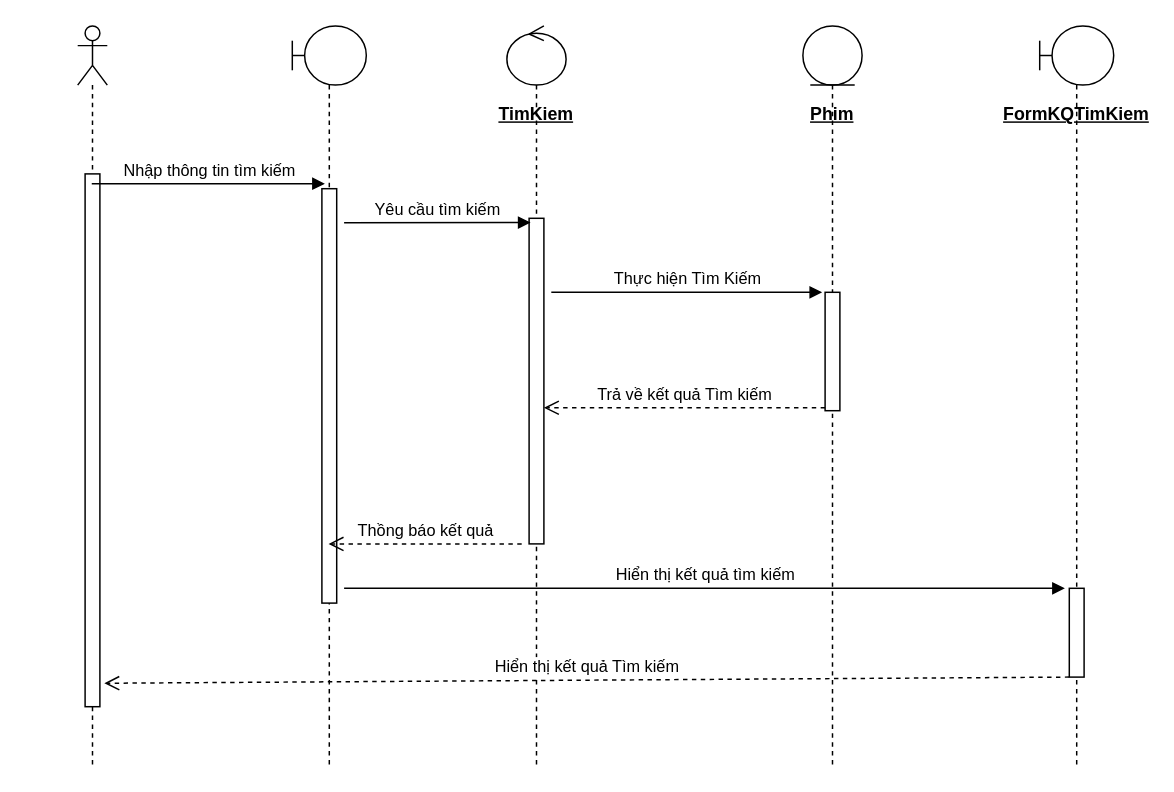
Some shapes in this 1174 by 792 pixel diagram are drawn without their labels. The shapes that lost their labels are listed below. From the top down, each one's box as (x1, y1, x2, y2) in pixels, then its label:
(76, 24, 107, 766): :Khách hàng
(291, 24, 366, 766): FormTimKiem
